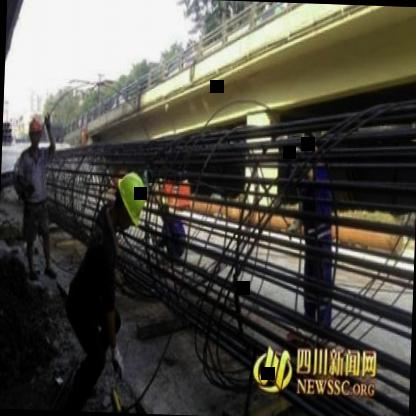helmet: (110, 168, 150, 230), (22, 109, 46, 152)
